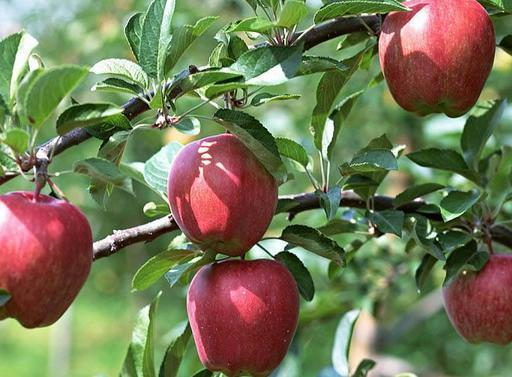apple: (378, 0, 498, 116), (187, 260, 307, 374), (0, 192, 95, 330), (167, 135, 279, 252), (443, 254, 511, 345)
